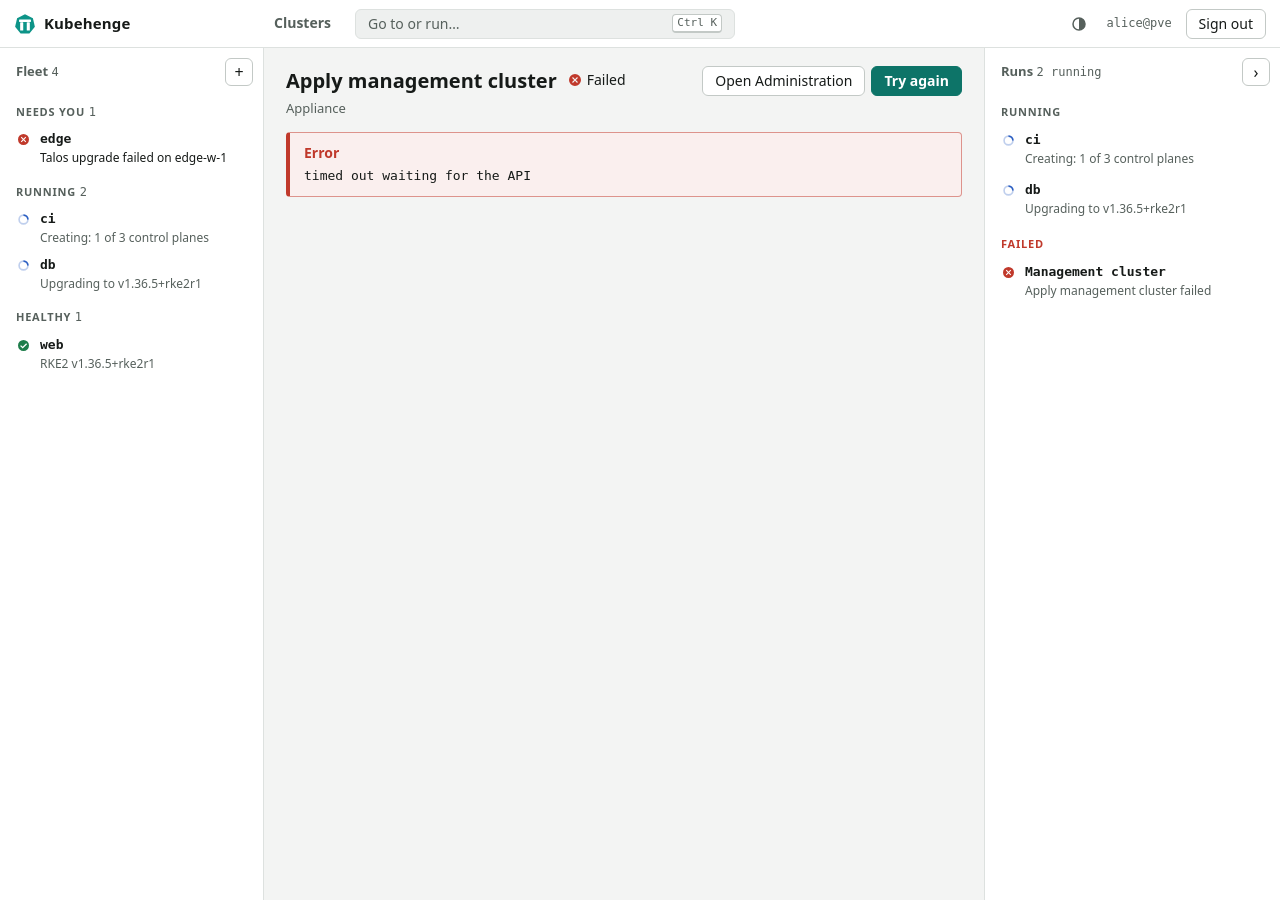
Test: the console › asks for the passphrase before applying the management cluster again with its saved settings
Click the button "Try again": (917, 81) x1=871 y1=66 x2=962 y2=96
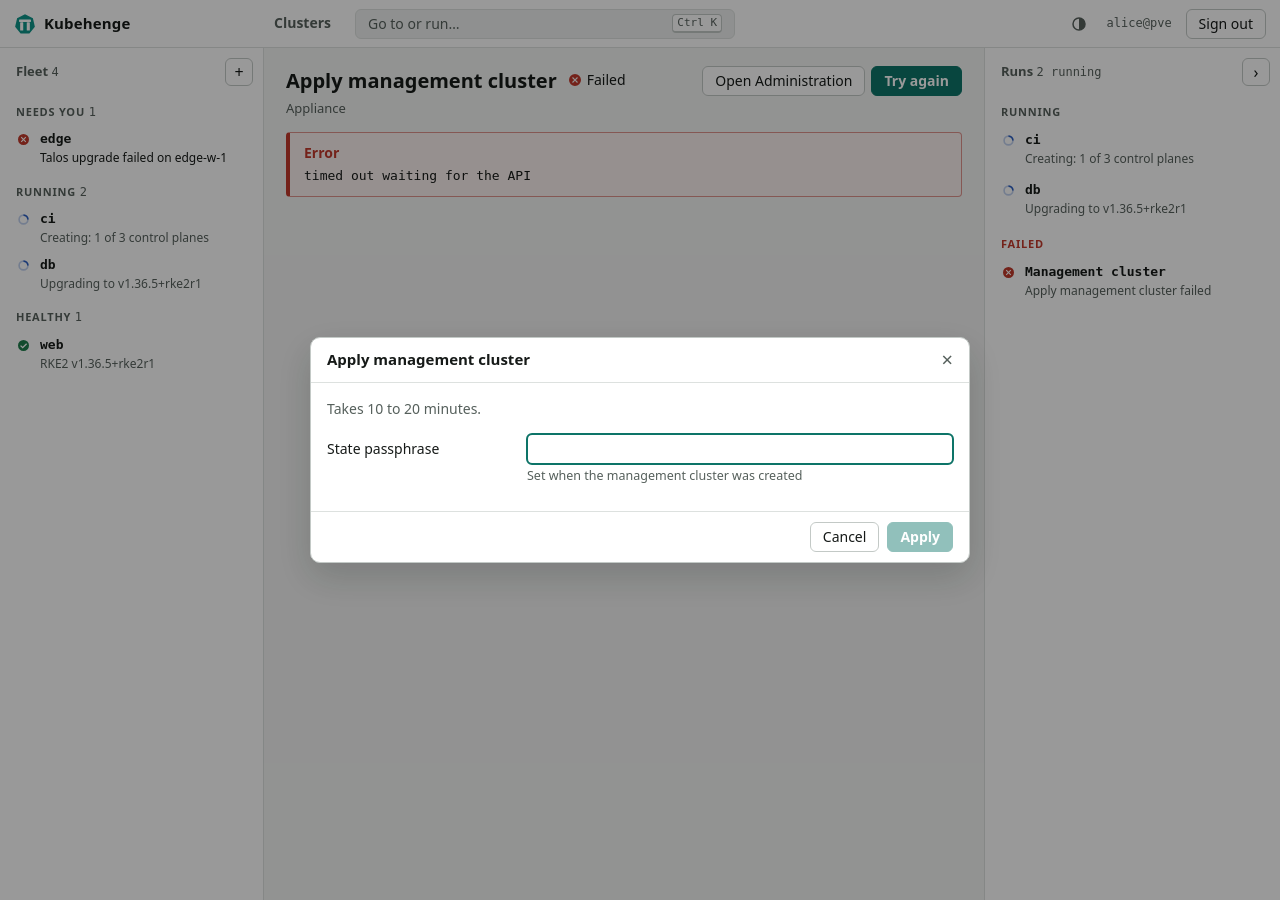
In the password field labelled "State passphrase": (740, 449) x1=527 y1=434 x2=953 y2=464, type "correct horse battery staple"
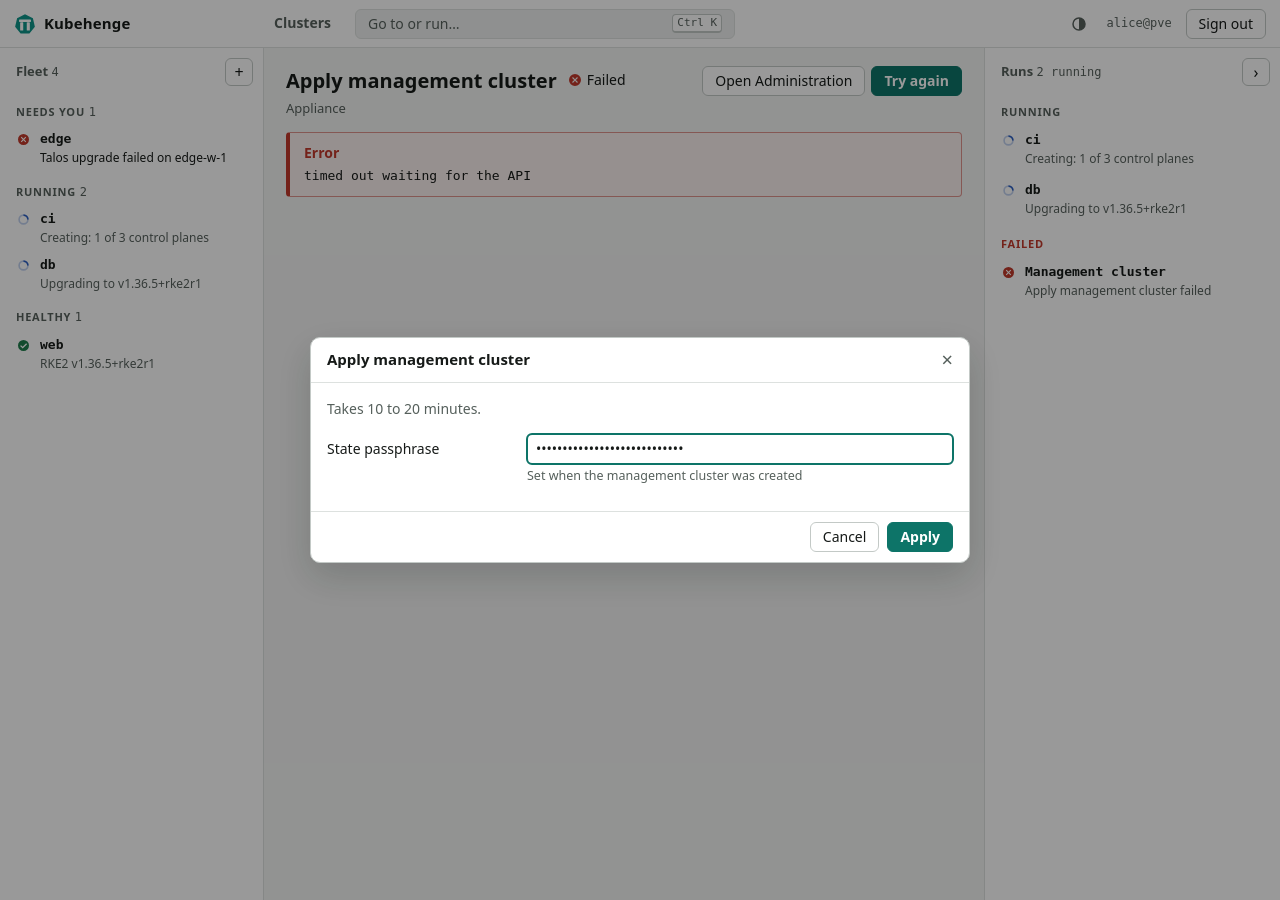
Click the button "Apply": (920, 537) x1=887 y1=522 x2=953 y2=552
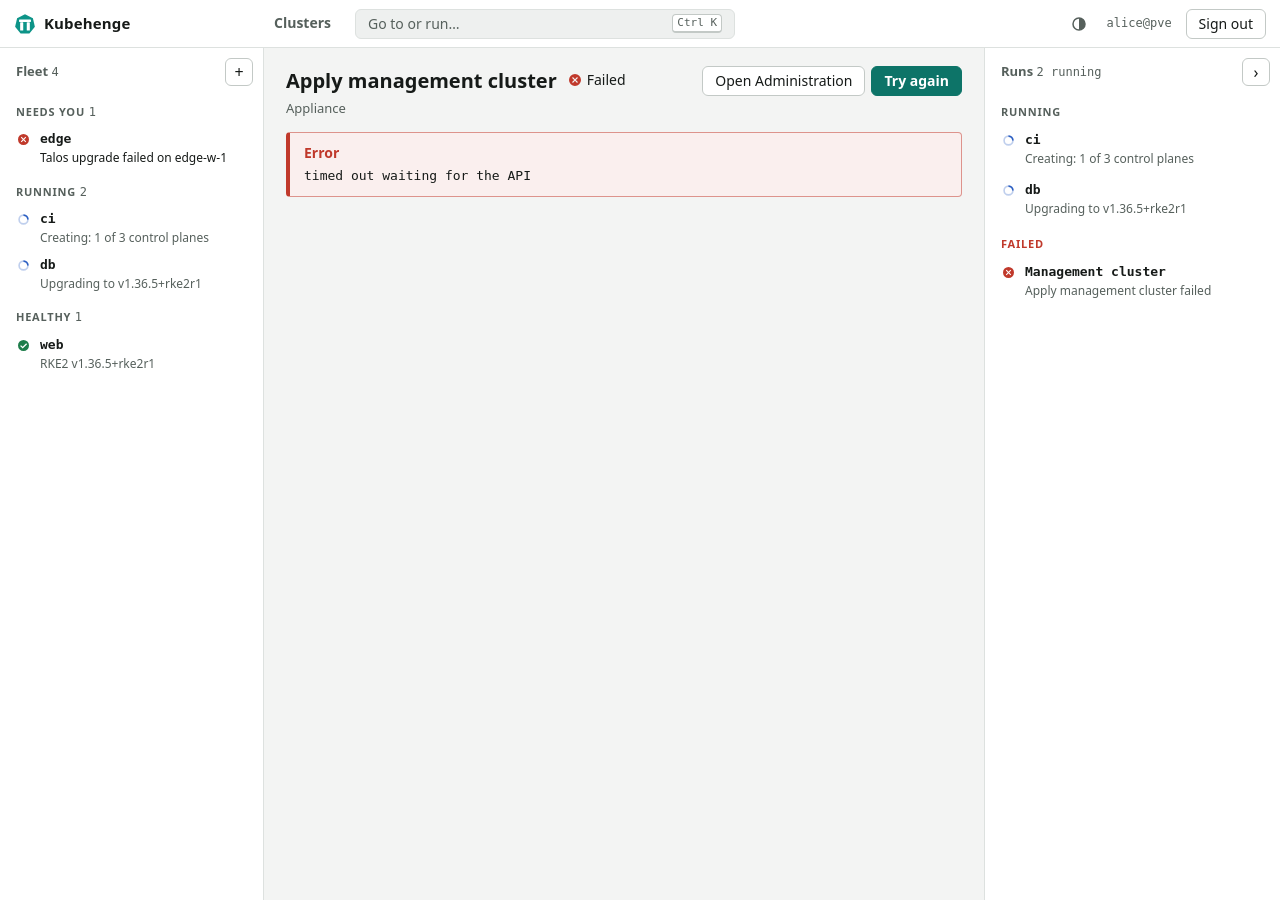
Expected: the dialog is gone
